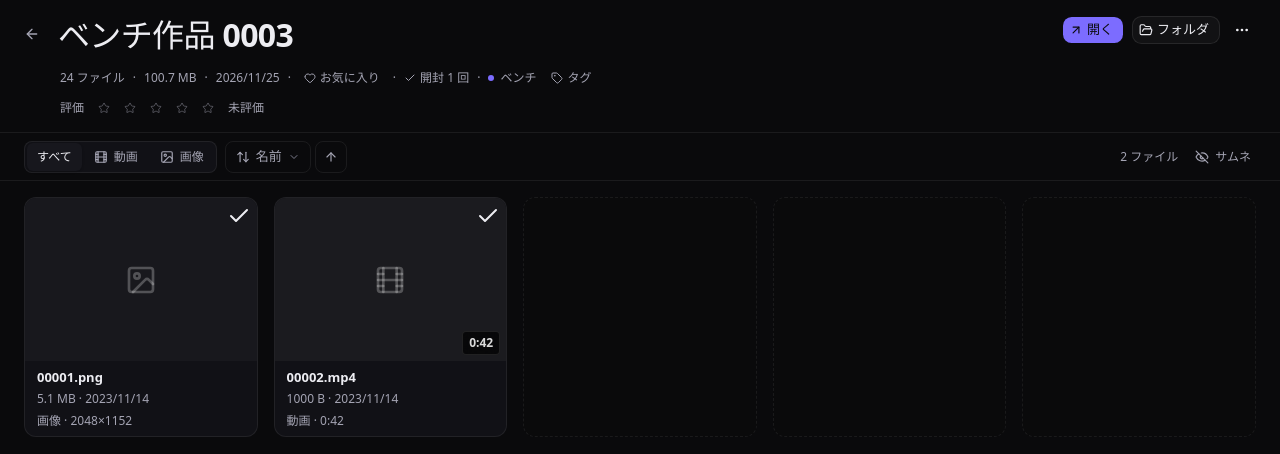
Test: #99 作品詳細 › ヘッダは題名 32px / メタ 1 行 / 評価の独立行で、未評価は 1 箇所だけ
Expected: the element showing "24 ファイル · 100.7 MB · 2026/11/25 · お気に入り · 開封 1 回 · ベンチ タグ" is shown, [60,66,600,90]
Expected: the element showing "評価 未評価" is shown, [60,96,264,120]
Click the button named "3 段階で評価".
click(156, 108)  # box [144,96,168,120]
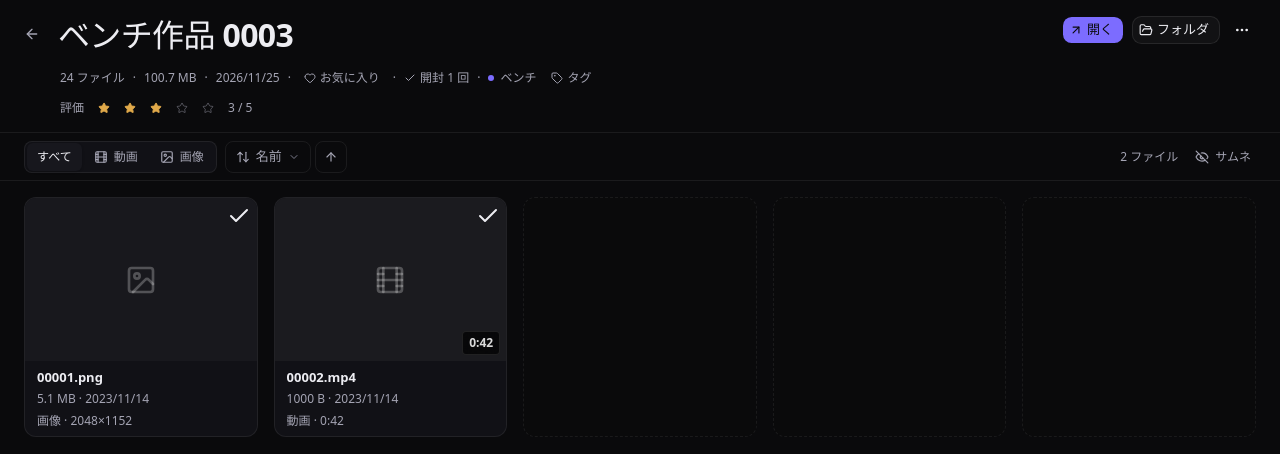
Now the text "3 / 5" is shown, box [228,99,252,117]
Now the text "未評価" is not shown
